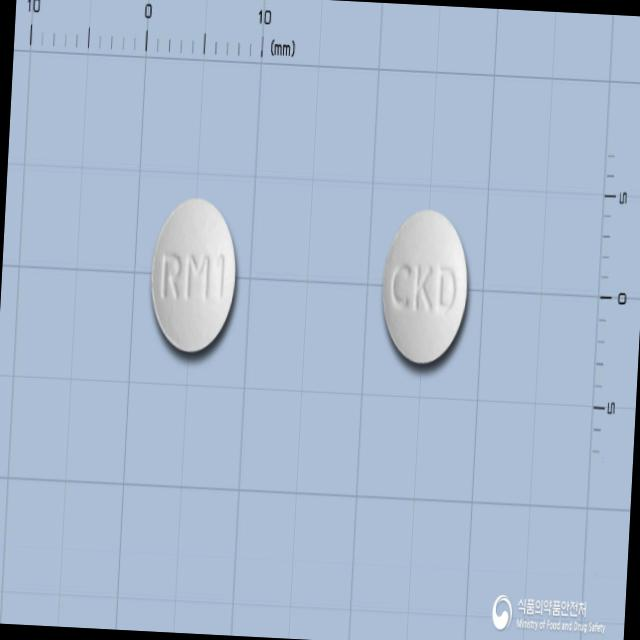Rheumide Tab: (378, 206, 473, 367), (147, 196, 241, 355)
